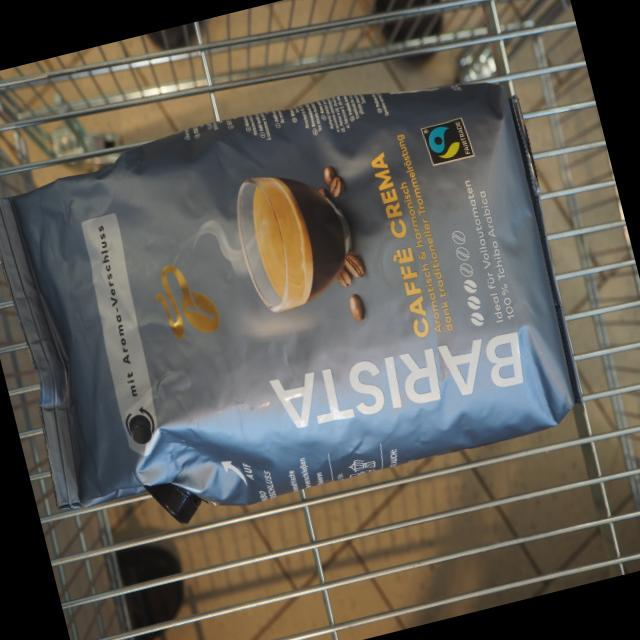Barista CC: (0, 44, 596, 563)
